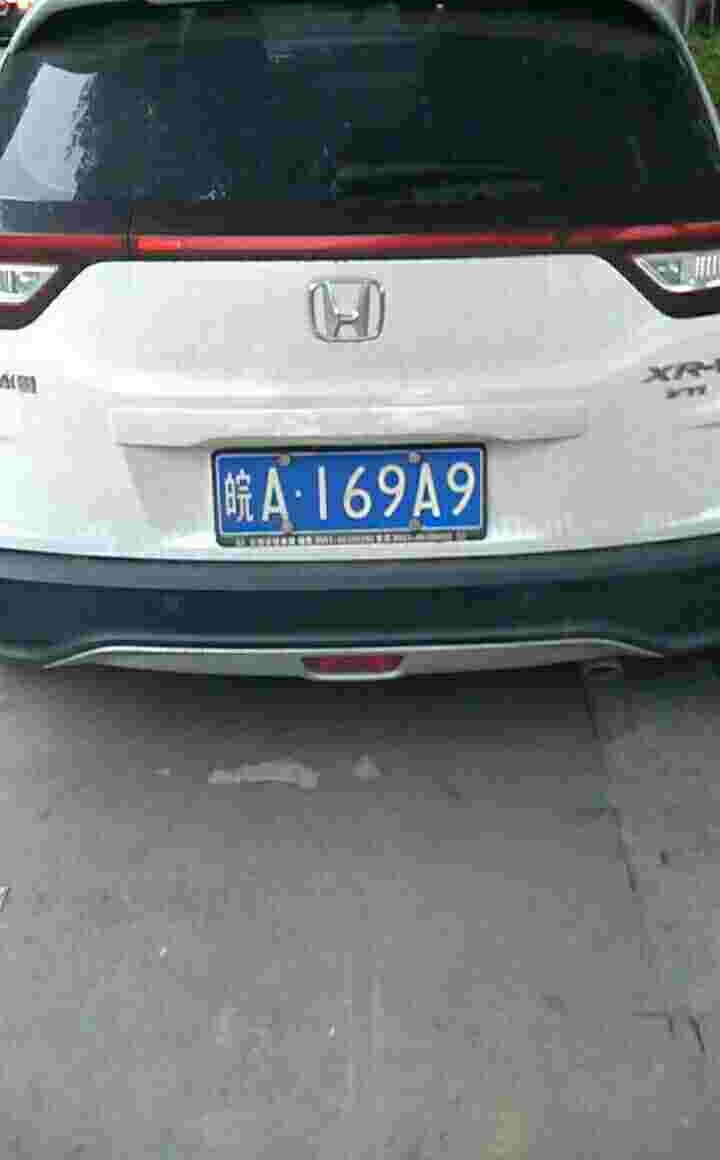license_plate: (216, 451, 479, 539)
